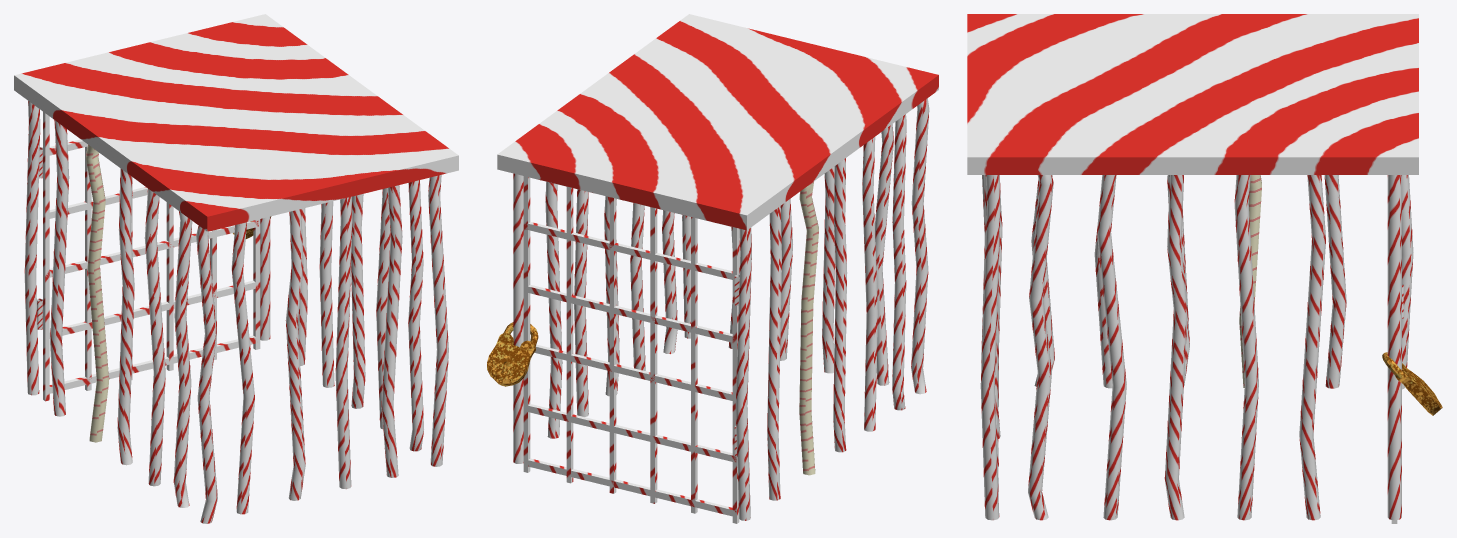
Rendered from Cage2.fbx.
3 renders of one model, left to right at view 1: azimuth 30°, elevation 25°; view 2: azimuth 150°, elevation 25°; view 3: azimuth 270°, elevation 25°, orthographic. The views are drawn at different scales.
Visible parts, largest first — view 1: pCube1, pCube14, pCylinder71, pCylinder69, pCylinder68, pCylinder66, pCylinder58, pCylinder70, pCylinder63, pCylinder59, pCylinder64, pCylinder65 (+8 smaller); view 2: pCube1, pCube14, pCylinder71, pCylinder58, pCylinder57, pCylinder70, pCylinder66, pCylinder69, pCylinder68, pCylinder39, pCylinder40, pCylinder62 (+8 smaller); view 3: pCube1, pCylinder40, pCylinder42, pCylinder44, pCylinder41, pCylinder43, pCylinder59, pCylinder39, pCylinder66, pCylinder57, pCylinder71, pCylinder28 (+3 smaller).
Part boxes in pixels (box(x1,y1,x2,y2)): pCube1: box(14, 14, 458, 231); pCube14: box(43, 112, 260, 401); pCylinder71: box(86, 145, 108, 442); pCylinder69: box(144, 188, 165, 486); pCylinder68: box(117, 168, 134, 465); pCylinder66: box(50, 120, 69, 416); pCylinder58: box(196, 226, 217, 523); pCylinder70: box(173, 211, 192, 507); pCylinder63: box(285, 209, 305, 500); pCylinder59: box(428, 175, 448, 466); pCylinder64: box(335, 196, 352, 489); pCylinder65: box(381, 185, 402, 477); pCube1: box(497, 14, 938, 230); pCube14: box(523, 176, 739, 523); pCylinder71: box(799, 181, 818, 475); pCylinder58: box(911, 98, 929, 394); pCylinder57: box(735, 227, 751, 520); pCylinder70: box(892, 114, 906, 410); pCylinder66: box(767, 206, 781, 500); pCylinder69: box(862, 137, 877, 431); pCylinder68: box(833, 158, 847, 452); pCylinder39: box(513, 173, 523, 463); pCylinder40: box(545, 181, 562, 438); pCylinder62: box(875, 124, 893, 385); pCube1: box(967, 14, 1418, 174); pCylinder40: box(1299, 175, 1325, 520); pCylinder42: box(1164, 175, 1187, 520); pCylinder44: box(1028, 175, 1053, 520); pCylinder41: box(1234, 175, 1258, 520); pCylinder43: box(1097, 175, 1126, 520); pCylinder59: box(980, 175, 1000, 520); pCylinder39: box(1387, 175, 1401, 520); pCylinder66: box(1324, 175, 1346, 388); pCylinder57: box(1402, 175, 1413, 389); pCylinder71: box(1239, 175, 1261, 387); pCylinder28: box(1382, 352, 1442, 415).
Bounding box in the file's own units: 5.17 × 6.22 × 7.11.
Materials: 1 (1 with a texture image).
